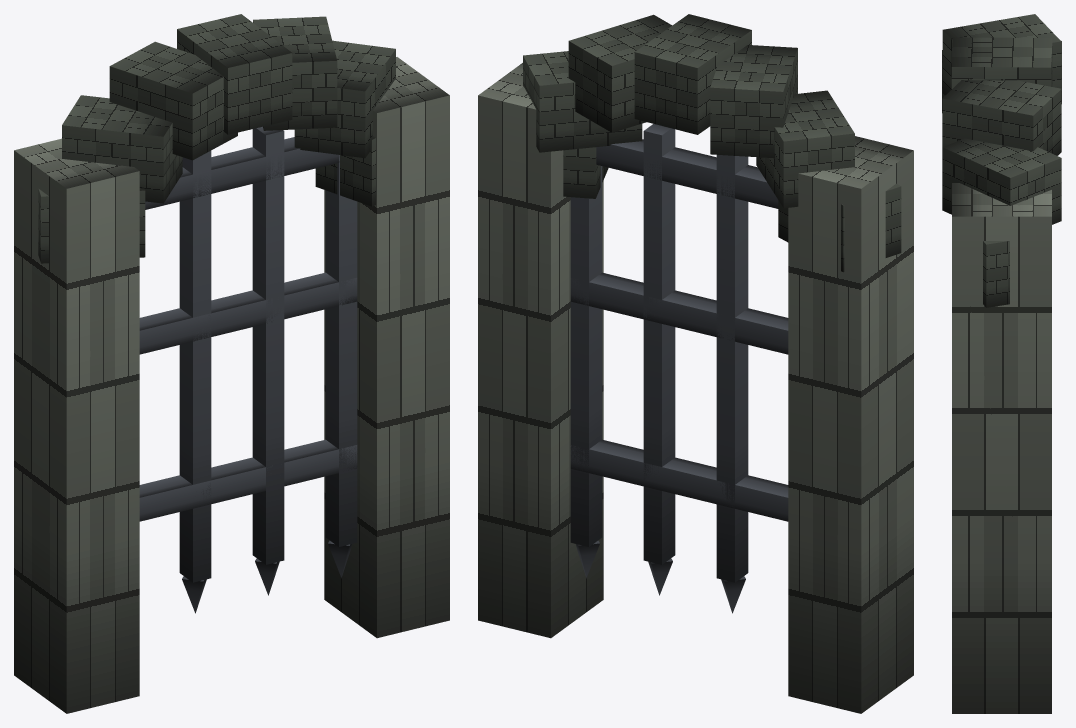
Rendered from portcullis.gltf.
3 views of the same model, side by side, from view 1: azimuth 30°, elevation 25°; view 2: azimuth 150°, elevation 25°; view 3: azimuth 270°, elevation 25° (orthographic). The views are drawn at different scales.
Parts seen in each view (by area): view 1: portcullis; view 2: portcullis; view 3: portcullis.
Boxes of the visible parts, x1,y1,x2,y2 form: portcullis: (14,14,449,713); portcullis: (478,14,913,713); portcullis: (942,14,1061,713).
Bounding box in the file's own units: 0.8716 × 1.27 × 0.2404.
1 material, 1 textured.
